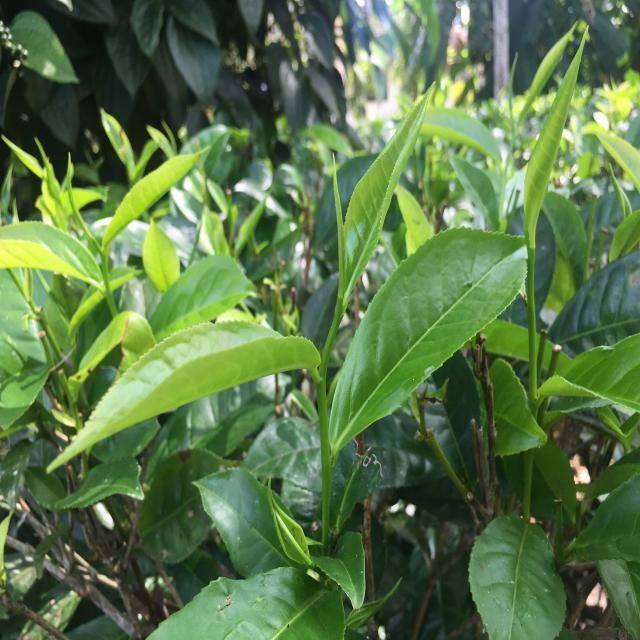Stem: (526, 235, 536, 251), (337, 301, 343, 316), (101, 252, 106, 261)
